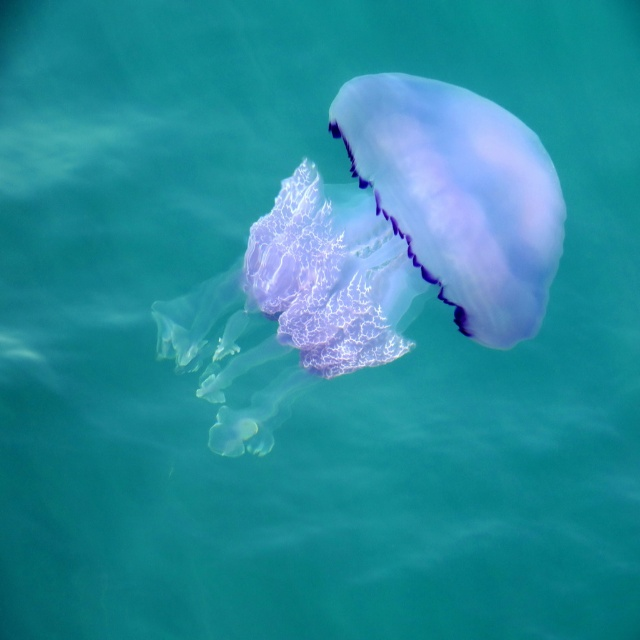Jellyfish: (209, 56, 570, 422)
